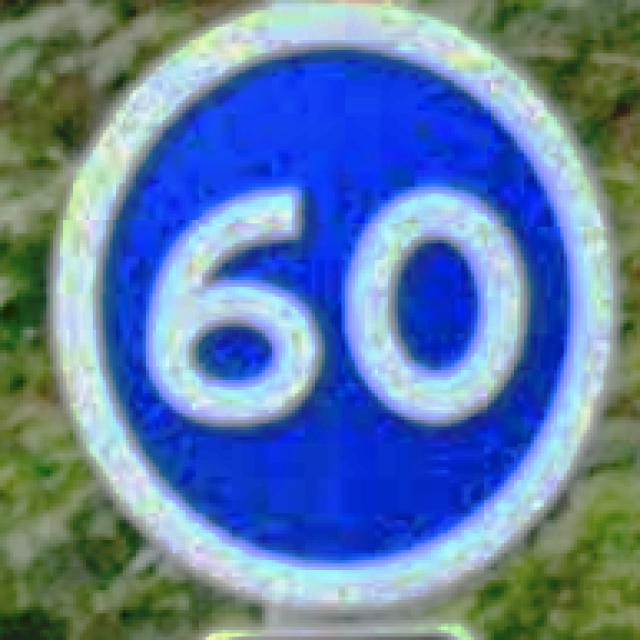min60: (43, 0, 620, 613)
